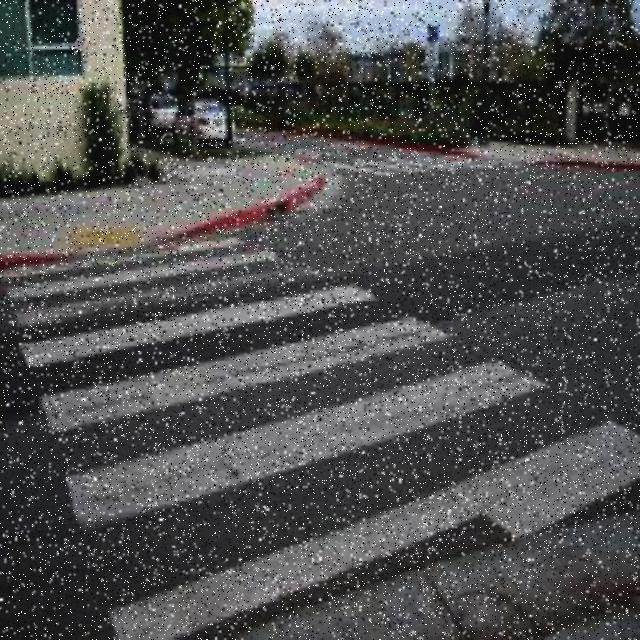Pedestrian crosswalk: (1, 231, 490, 571), (338, 156, 494, 185)
